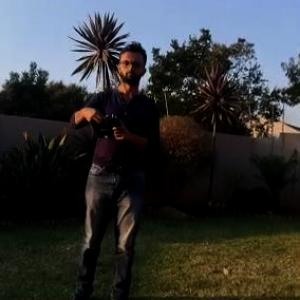follow: (59, 37, 163, 299)
